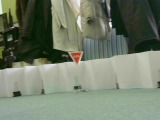stop: (67, 51, 84, 67)
